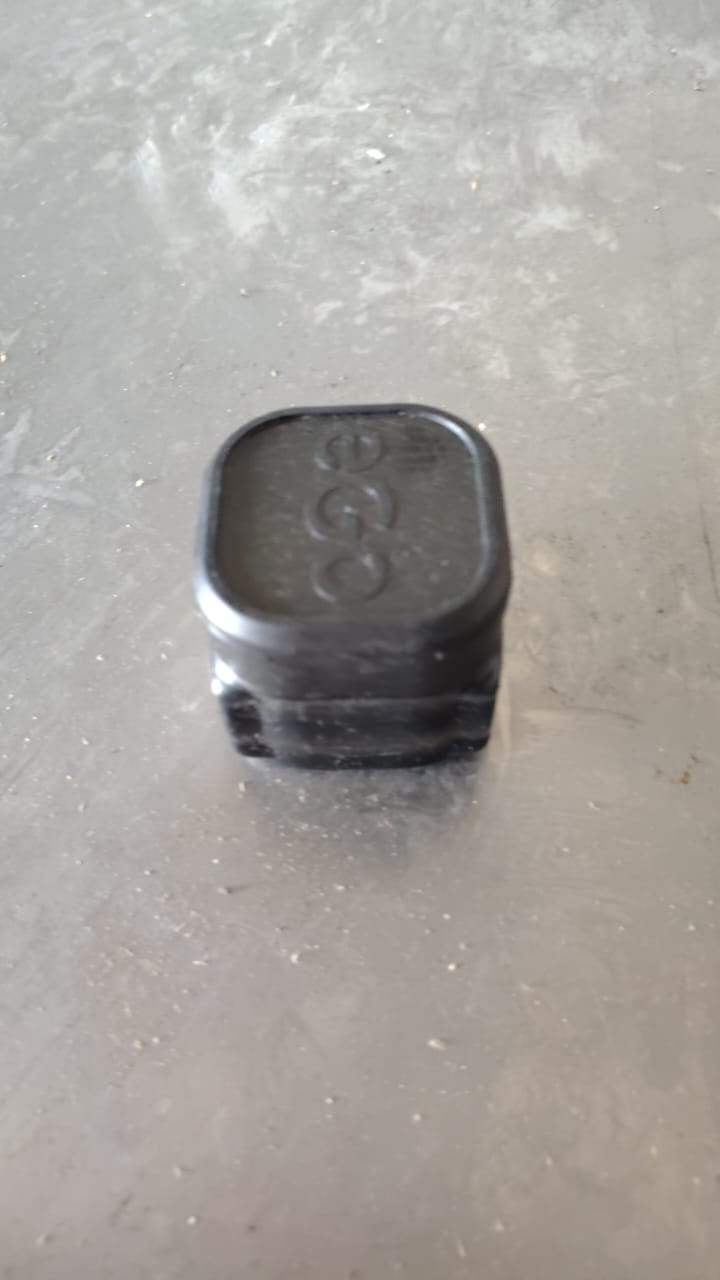Plastico: (191, 407, 514, 769)
